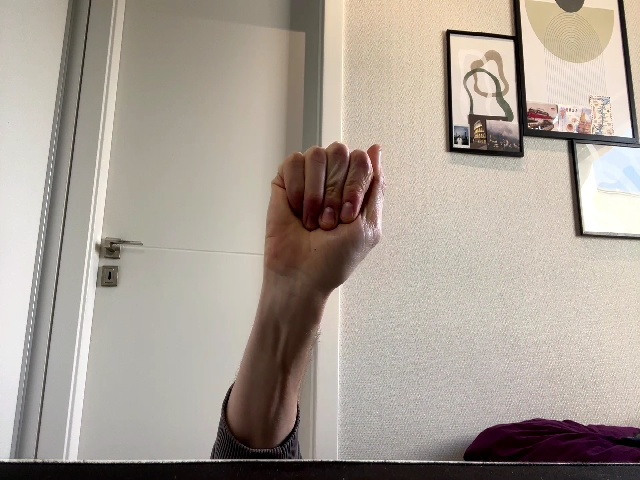A: (257, 142, 384, 289)
